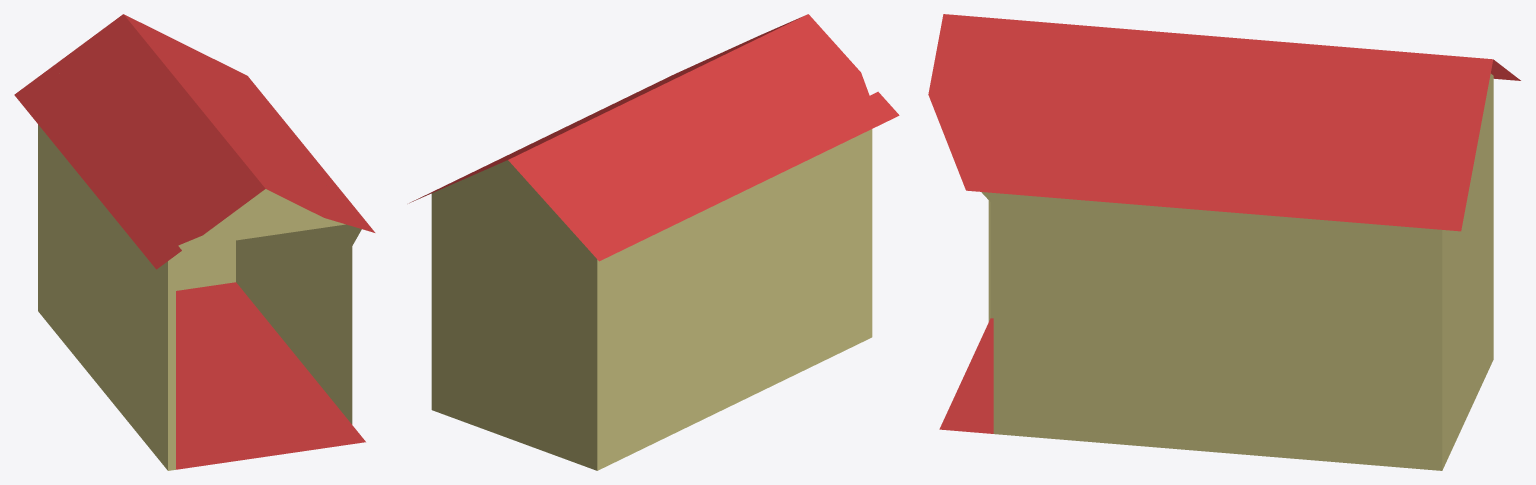
The picture shows the model from 3 angles, left to right: view 1: azimuth 30°, elevation 25°; view 2: azimuth 150°, elevation 25°; view 3: azimuth 270°, elevation 25°; orthographic projection. The views are drawn at different scales.
Size of the model in its own units: 13.09 by 18.6 by 12.23.
